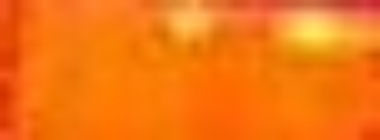Hotspot: (163, 4, 380, 60)
